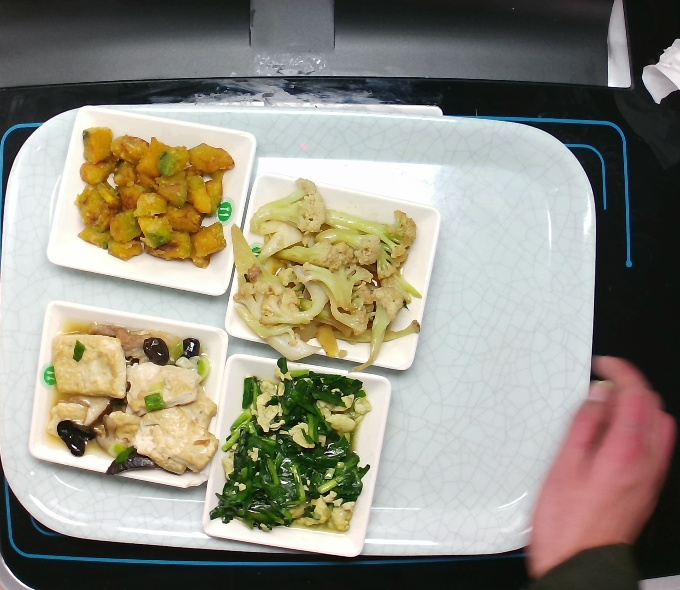wcq-DanHuangNanGua: (70, 123, 239, 272)
wcq-JiaChangDouFu: (47, 323, 221, 481)
wcq-JiuCaiJiDan: (209, 354, 374, 536)
wcq-QiuCai: (226, 177, 422, 360)
